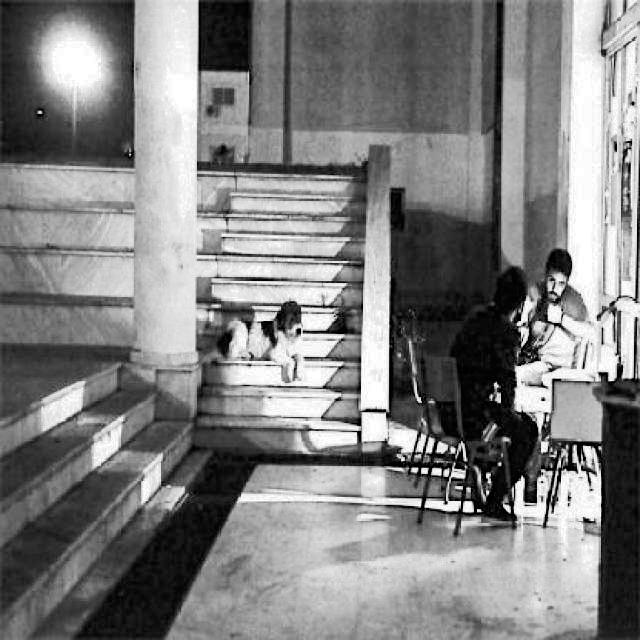Dog: (218, 291, 311, 384)
Person: (440, 266, 539, 529), (515, 246, 600, 388)
